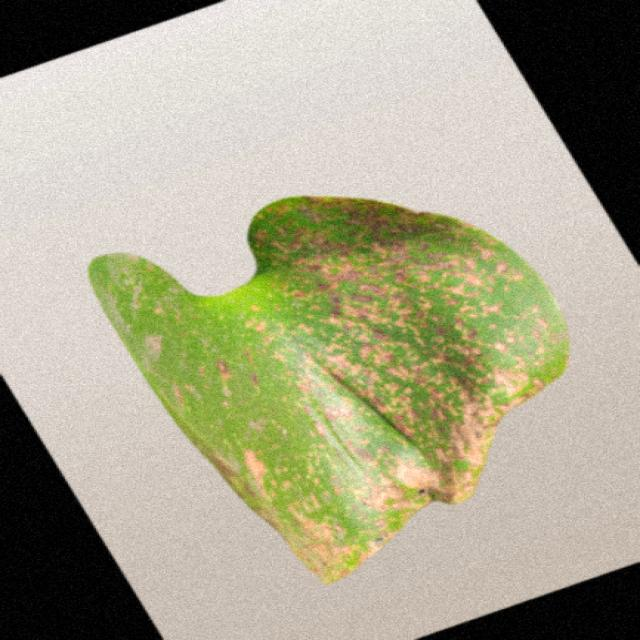daun berpenyakit bercak: (88, 198, 568, 582)
